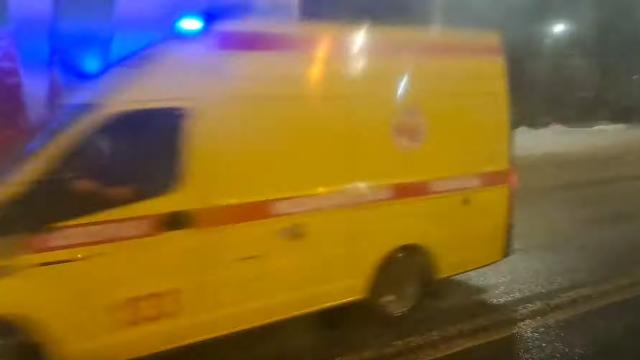intensive care unit: (1, 8, 512, 356)
